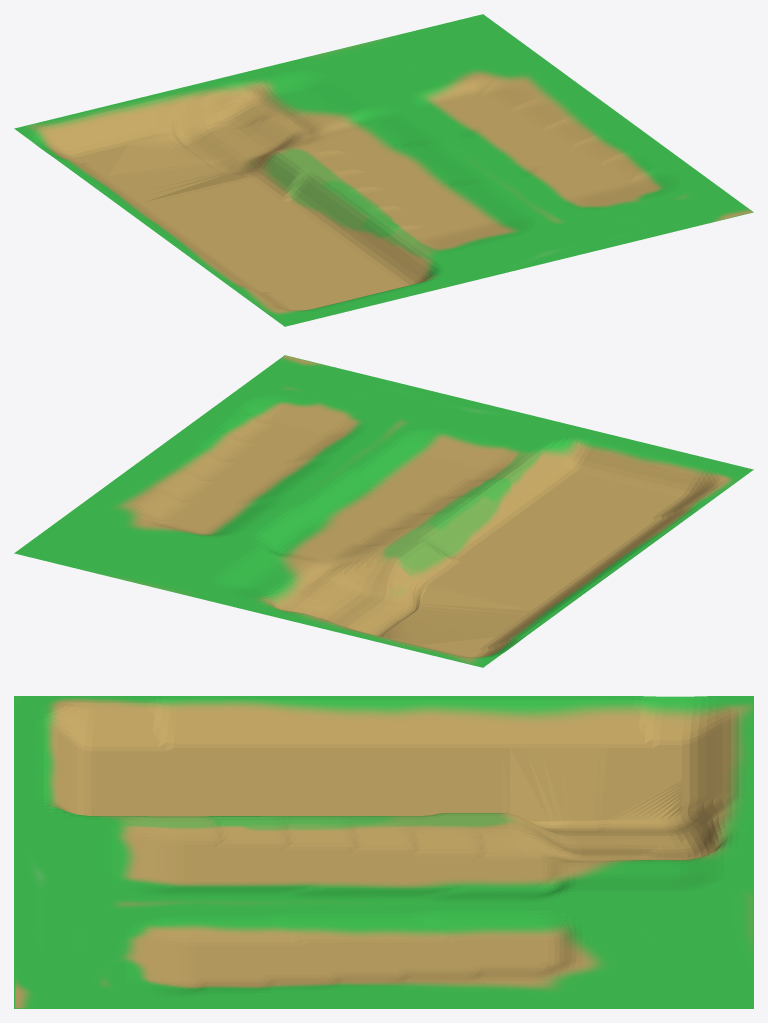
Rendered from multiple_heights.dae.
3 views of the same model, one above another, from view 1: azimuth 30°, elevation 25°; view 2: azimuth 150°, elevation 25°; view 3: azimuth 270°, elevation 25° (orthographic). The views are drawn at different scales.
Parts seen in each view (by area): view 1: Grid; view 2: Grid; view 3: Grid.
Part boxes in pixels (left/top/right/bottom): Grid: left=14, top=14, right=753, bottom=326; Grid: left=14, top=355, right=753, bottom=667; Grid: left=14, top=696, right=753, bottom=1008.
Bounding box in the file's own units: 48.96 × 48.96 × 2.77.
Materials: 1 (1 with a texture image).
